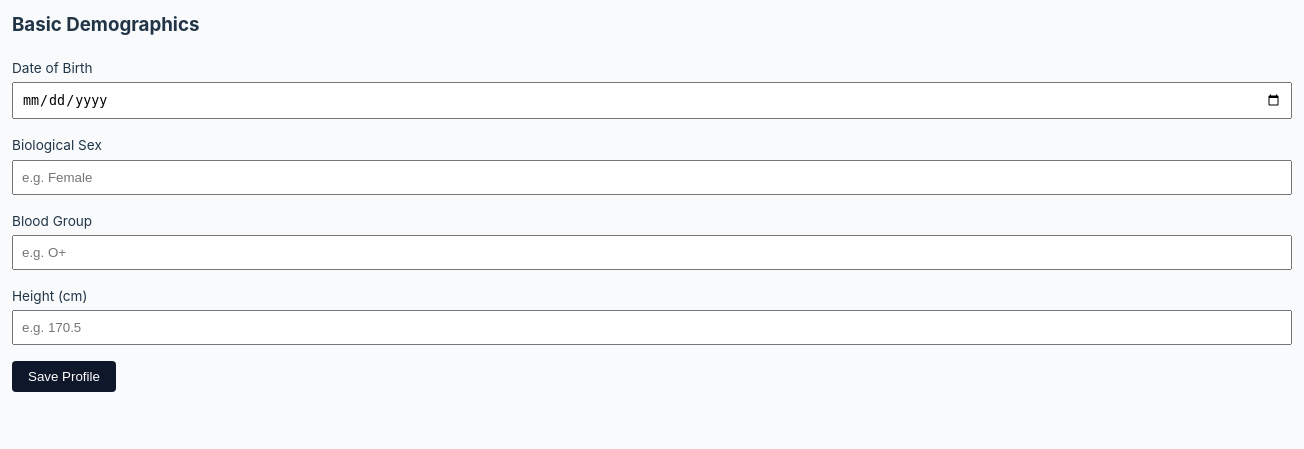
Scenario: HealthProfileView › shows error on API failure without silently discarding entered values
In the field with test id "input-sex": (652, 177) [12,160,1292,195], type "Female"
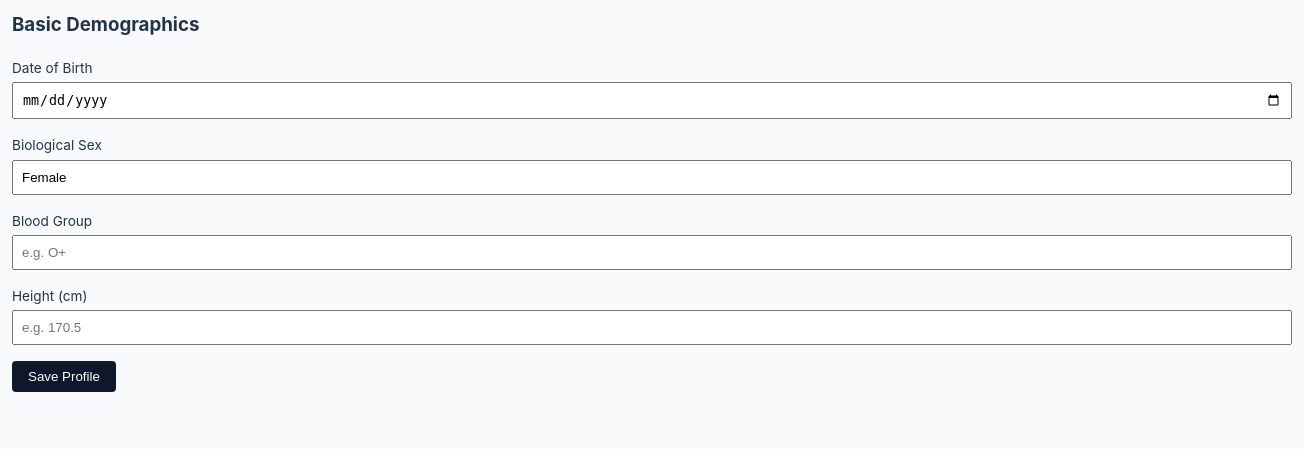
Click the button with test id "btn-save-profile": (64, 377) [12,361,116,392]
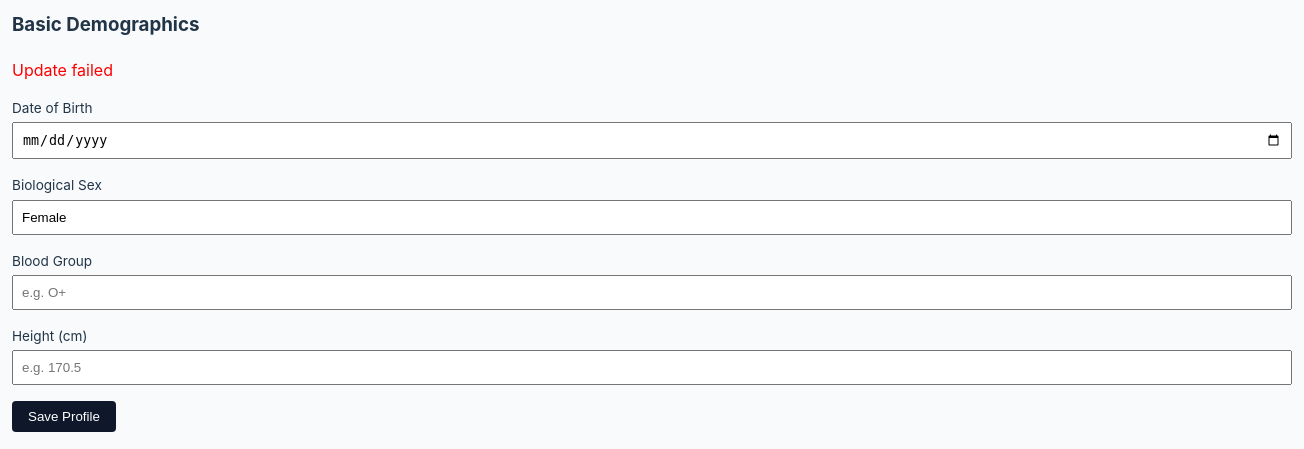
Now the text with test id "health-profile-error" reads "Update failed", box [12,60,113,80]
